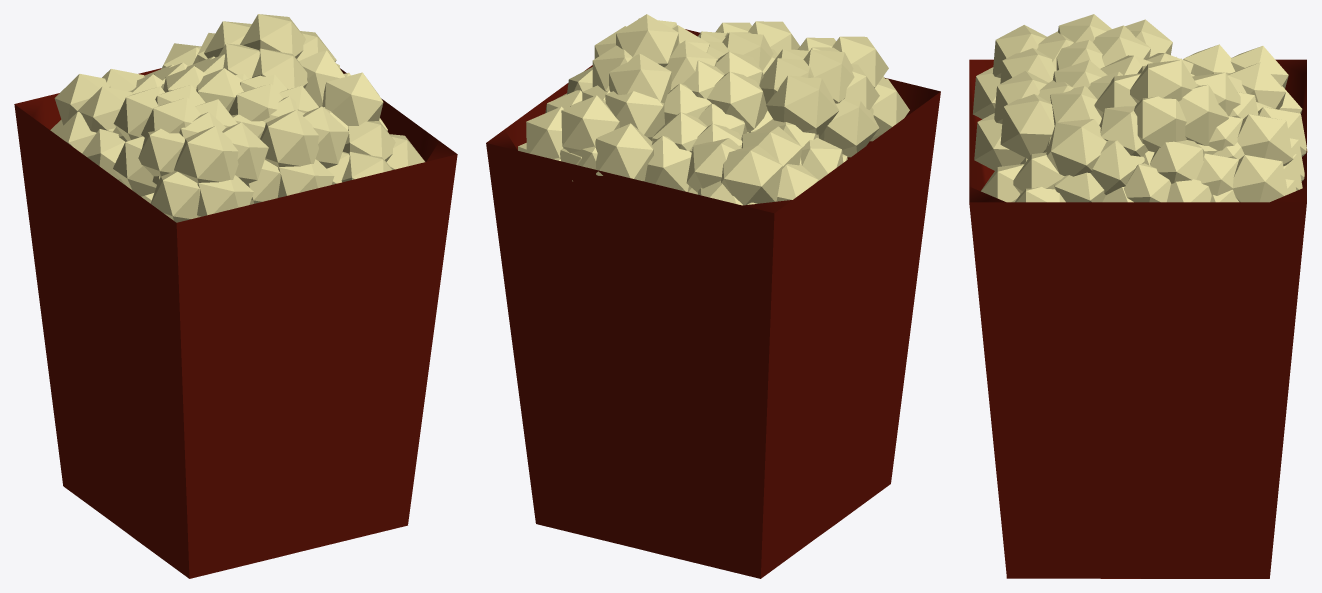
Rendered from Pop Corn.fbx.
3 renders of one model, left to right at view 1: azimuth 30°, elevation 25°; view 2: azimuth 150°, elevation 25°; view 3: azimuth 270°, elevation 25°, orthographic. The views are drawn at different scales.
Parts seen in each view (by area): view 1: pCube1, pasted__pasted__group18_pasted__group17_pasted__pasted__pPla (×5), pasted__group18_pasted__group17_pasted__pasted__pPlatonic1 (×3), pasted__pasted__pasted__group18_pasted__group17_pasted__past (×2), group18_pasted__group17_pasted__pasted__pPlatonic1, pasted__pasted__pasted__pasted__group18_pasted__group17_past; view 2: pCube1, pasted__group18_pasted__group17_pasted__pasted__pPlatonic1 (×3), pasted__pasted__group18_pasted__group17_pasted__pasted__pPla (×5), pasted__pasted__pasted__group18_pasted__group17_pasted__past (×2), pasted__pasted__pasted__pasted__group18_pasted__group17_past; view 3: pCube1, pasted__pasted__group18_pasted__group17_pasted__pasted__pPla (×6), pasted__group18_pasted__group17_pasted__pasted__pPlatonic1 (×3), group18_pasted__group17_pasted__pasted__pPlatonic1, pasted__pasted__pasted__group18_pasted__group17_pasted__past, pasted__pasted__pasted__pasted__group18_pasted__group17_past.
Boxes of the visible parts, bbox=[...] form: pCube1: bbox=[14, 68, 457, 578]; pasted__pasted__group18_pasted__group17_pasted__pasted__pPla (×5): bbox=[50, 69, 424, 222]; pasted__group18_pasted__group17_pasted__pasted__pPlatonic1 (×3): bbox=[113, 14, 336, 196]; pasted__pasted__pasted__group18_pasted__group17_pasted__past (×2): bbox=[130, 62, 349, 204]; group18_pasted__group17_pasted__pasted__pPlatonic1: bbox=[299, 50, 387, 130]; pasted__pasted__pasted__pasted__group18_pasted__group17_past: bbox=[163, 54, 243, 111]; pCube1: bbox=[486, 29, 940, 578]; pasted__group18_pasted__group17_pasted__pasted__pPlatonic1 (×3): bbox=[561, 14, 879, 181]; pasted__pasted__group18_pasted__group17_pasted__pasted__pPla (×5): bbox=[518, 31, 909, 205]; pasted__pasted__pasted__group18_pasted__group17_pasted__past (×2): bbox=[644, 21, 799, 194]; pasted__pasted__pasted__pasted__group18_pasted__group17_past: bbox=[664, 51, 772, 132]; pCube1: bbox=[969, 59, 1306, 578]; pasted__pasted__group18_pasted__group17_pasted__pasted__pPla (×6): bbox=[973, 25, 1302, 202]; pasted__group18_pasted__group17_pasted__pasted__pPlatonic1 (×3): bbox=[1056, 14, 1307, 181]; group18_pasted__group17_pasted__pasted__pPlatonic1: bbox=[1046, 106, 1148, 202]; pasted__pasted__pasted__group18_pasted__group17_pasted__past: bbox=[974, 70, 1073, 170]; pasted__pasted__pasted__pasted__group18_pasted__group17_past: bbox=[1100, 53, 1194, 76].
Bounding box in the file's own units: 6.32 × 10.03 × 6.34.
